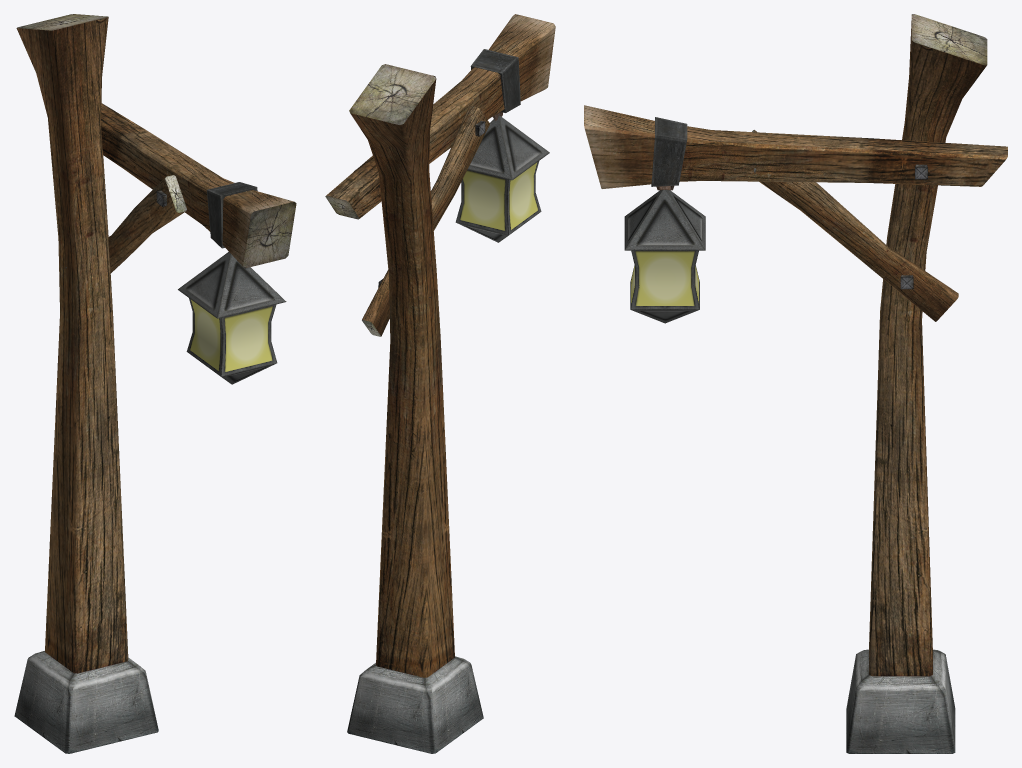
File: lightning_pole.obj
3 views of the same model, side by side, from view 1: azimuth 30°, elevation 25°; view 2: azimuth 150°, elevation 25°; view 3: azimuth 270°, elevation 25° (orthographic). The views are drawn at different scales.
Parts seen in each view (by area): view 1: pole_geo; view 2: pole_geo; view 3: pole_geo.
Boxes of the visible parts, box(x1,y1,x2,y2) form: pole_geo: box(14, 14, 296, 753); pole_geo: box(325, 14, 555, 753); pole_geo: box(584, 14, 1007, 753).
Bounding box in the file's own units: 46.67 × 282 × 154.
Materials: 1 (1 with a texture image).
